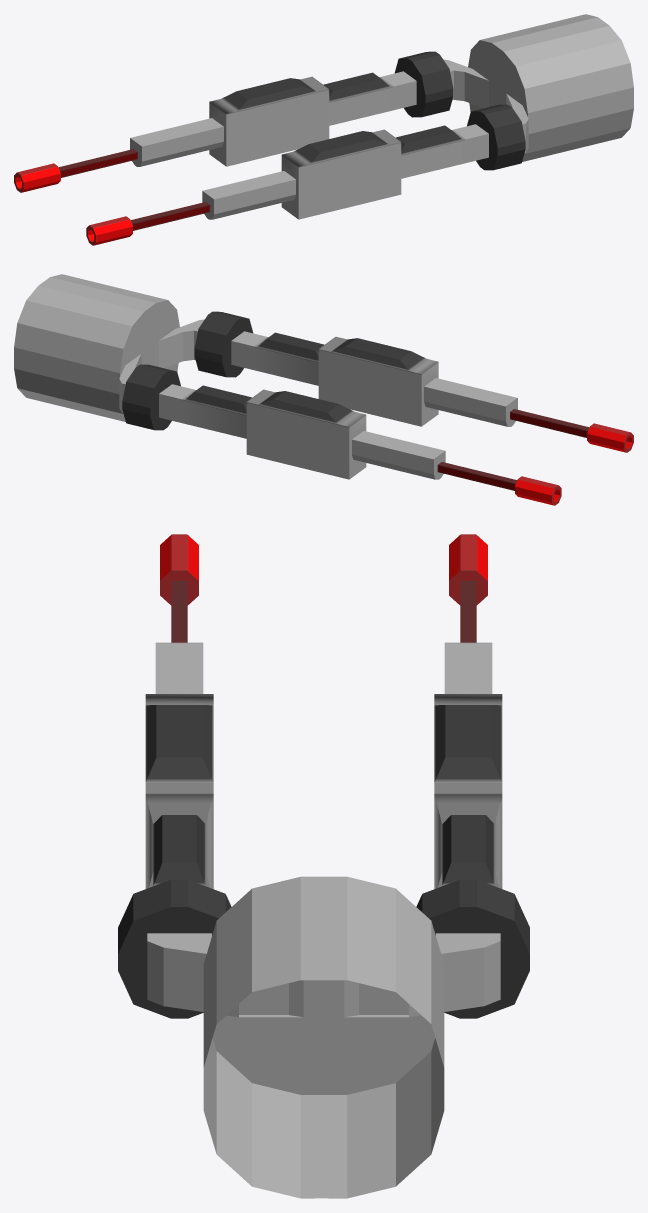
Rendered from 01_machinegun_v01.fbx.
The picture shows the model from 3 angles, top to bottom: view 1: azimuth 30°, elevation 25°; view 2: azimuth 150°, elevation 25°; view 3: azimuth 270°, elevation 25°; orthographic projection. The views are drawn at different scales.
Parts seen in each view (by area): view 1: 01_connection; view 2: 01_connection; view 3: 01_connection.
Boxes of the visible parts, x1=… form: 01_connection: x1=14, y1=14, x2=633, y2=245; 01_connection: x1=14, y1=274, x2=633, y2=505; 01_connection: x1=118, y1=534, x2=529, y2=1198.
Size of the model in its own units: 527 by 100 by 171.
